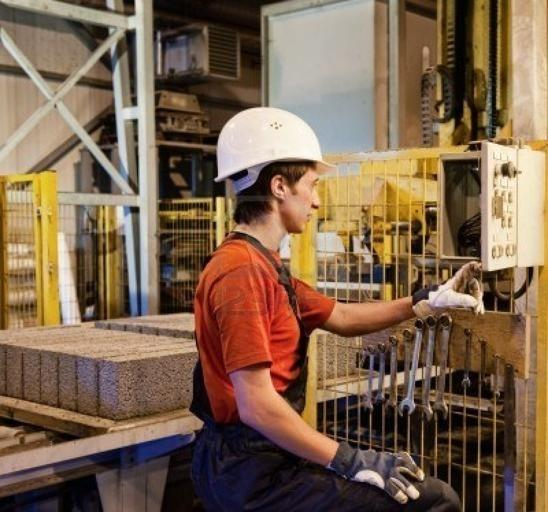capacete: (212, 109, 337, 185)
luva: (333, 422, 425, 497), (409, 257, 488, 316)
uniforme seguranca: (190, 93, 415, 512)
